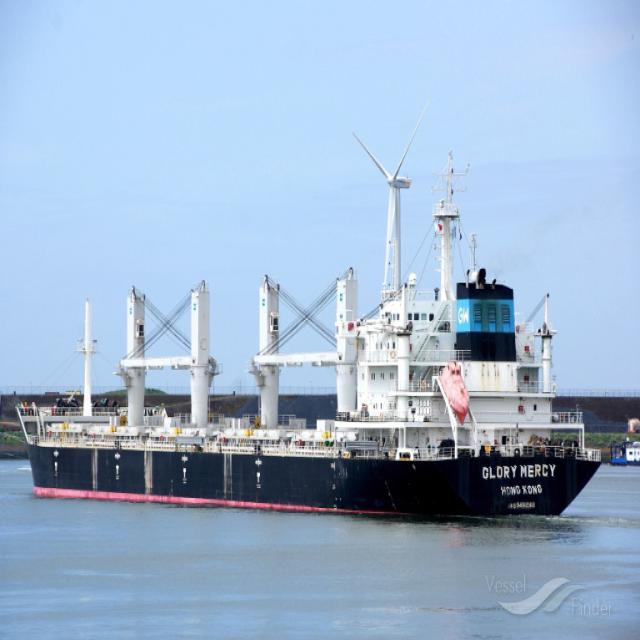OCR: (478, 462, 560, 513)
